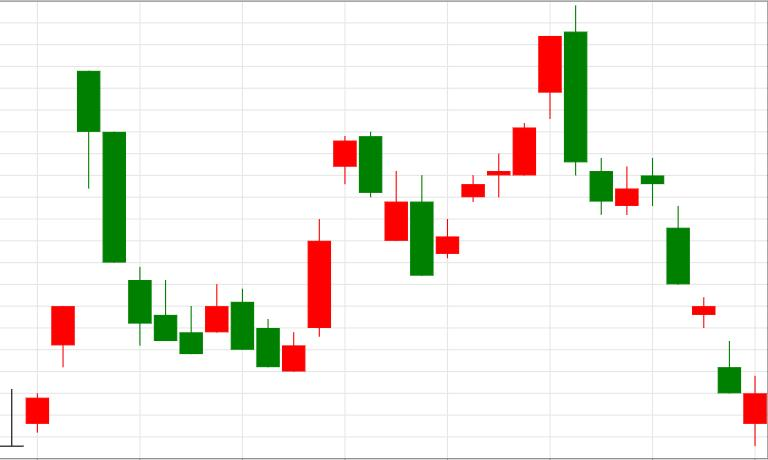bearish_engulfing_fall: (436, 5, 587, 258), (282, 132, 382, 372)
three_black_crows_fall: (1, 70, 152, 448)
